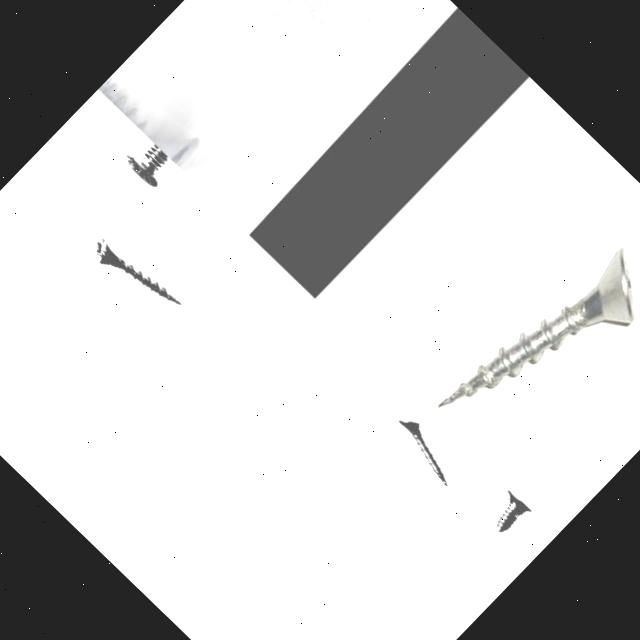Screw: (439, 248, 635, 408), (95, 241, 180, 305), (396, 419, 446, 486), (126, 143, 168, 187), (496, 490, 530, 533)
